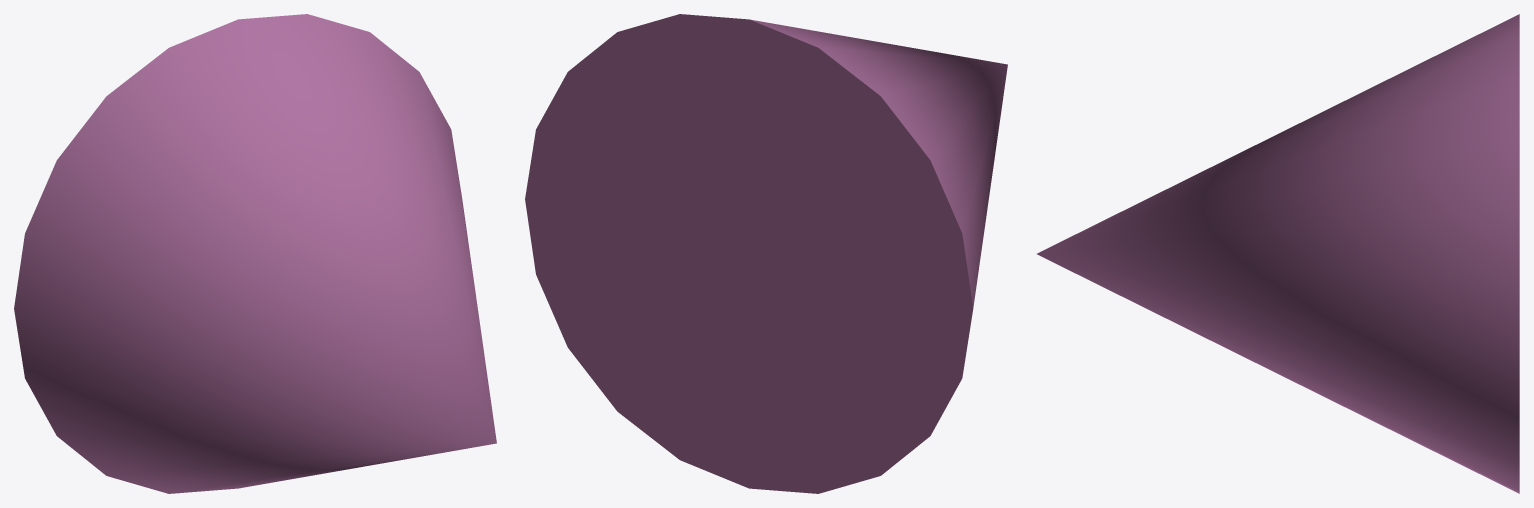
The model's file is Ship2.fbx.
3 views of the same model, side by side, from view 1: azimuth 30°, elevation 25°; view 2: azimuth 150°, elevation 25°; view 3: azimuth 270°, elevation 25° (orthographic). The views are drawn at different scales.
Parts seen in each view (by area): view 1: pCone1; view 2: pCone1; view 3: pCone1.
Boxes of the visible parts, bbox=[...] form: pCone1: bbox=[14, 14, 496, 493]; pCone1: bbox=[525, 14, 1007, 493]; pCone1: bbox=[1037, 14, 1519, 493].
Size of the model in its own units: 2 by 2 by 2.
